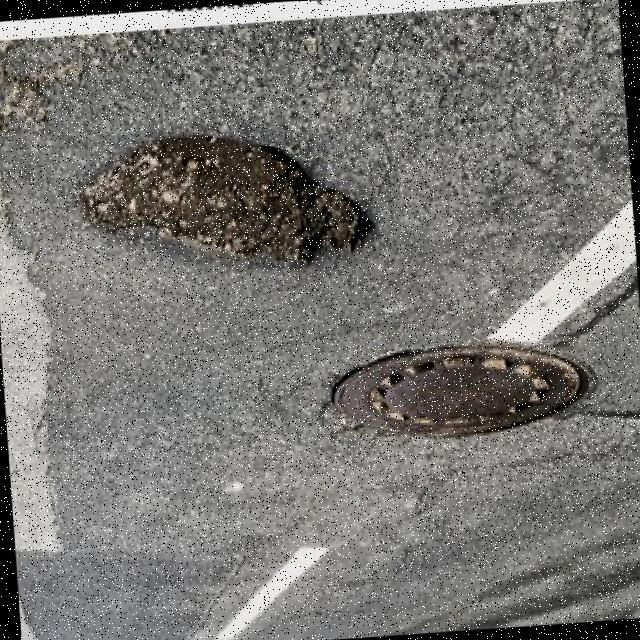Pothole: (75, 132, 372, 265)
